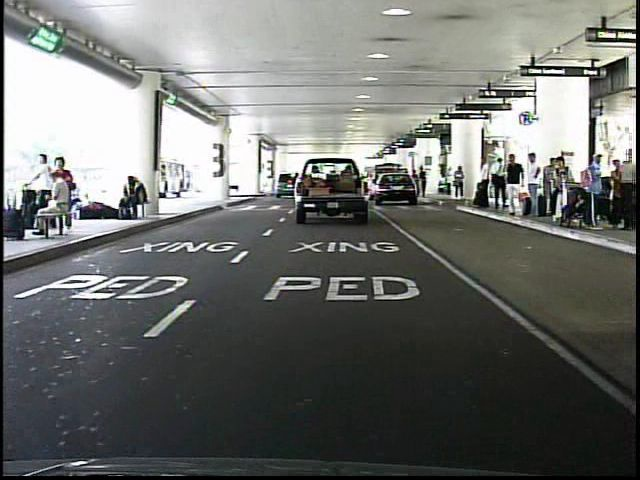person: (524, 150, 546, 222), (503, 152, 526, 220), (473, 153, 495, 214), (452, 164, 468, 203), (418, 165, 430, 201), (412, 167, 421, 200)
